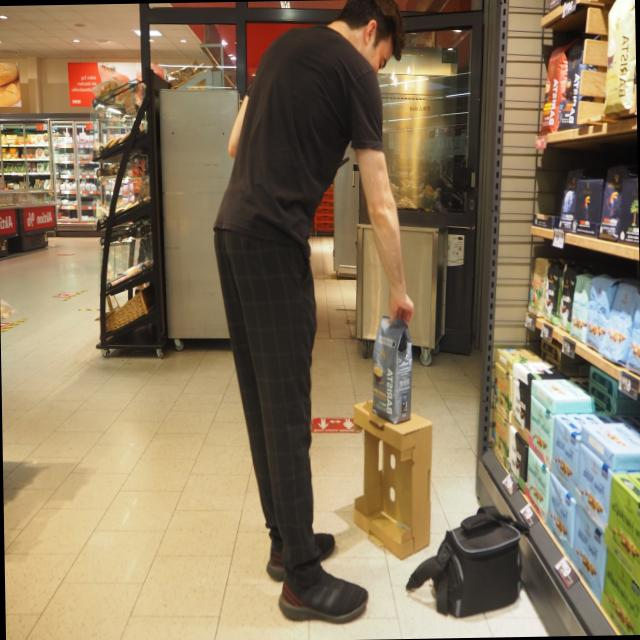Barista CC: (370, 318, 413, 424)
